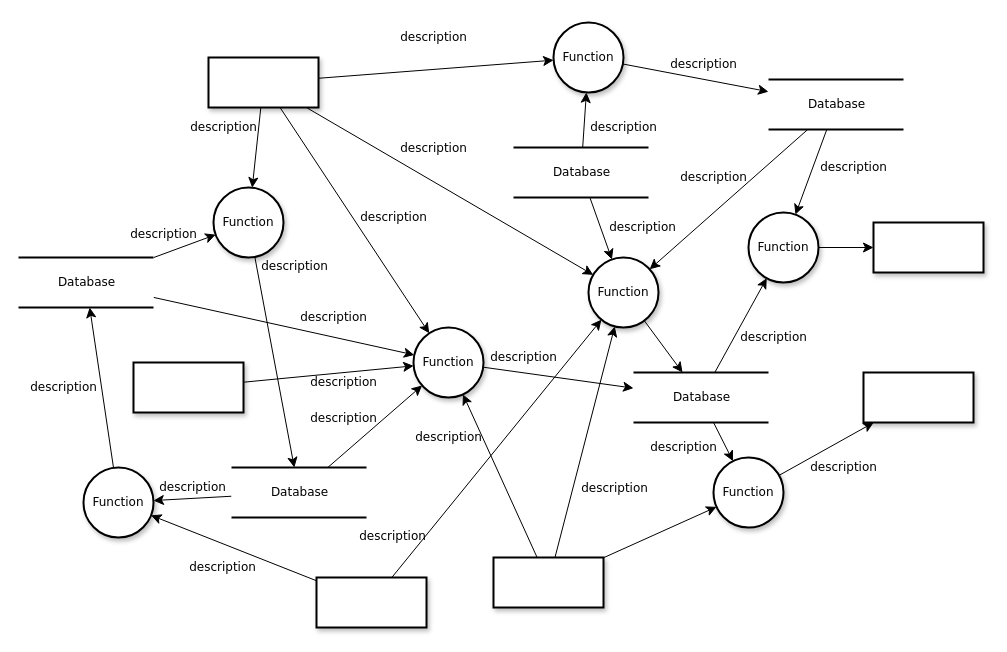
Some shapes in this 1007 by 652 pixel diagram are drawn without their labels. Each missing label, with the centre of its shape:
"Input 1" goes at pixel 189 388.
"Input 2" goes at pixel 372 603.
"Input 3" goes at pixel 549 583.
"Input 4" goes at pixel 264 83.
"Output 1" goes at pixel 929 248.
"Output 2" goes at pixel 919 398.
